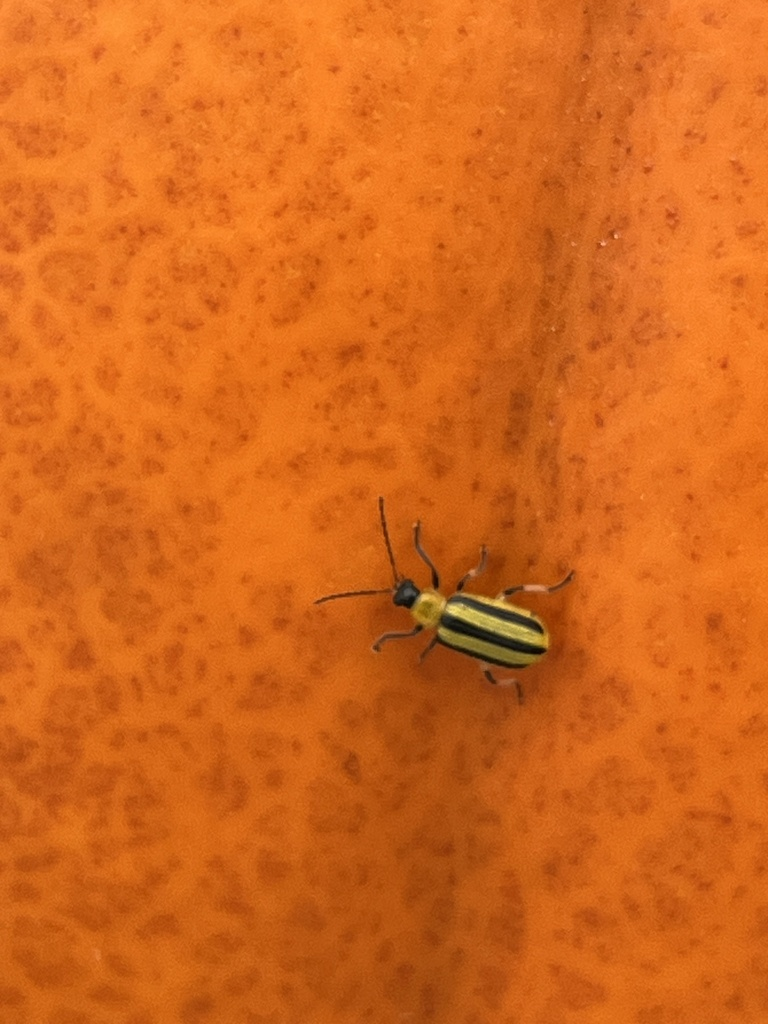potato_beetle: (251, 432, 665, 787)
